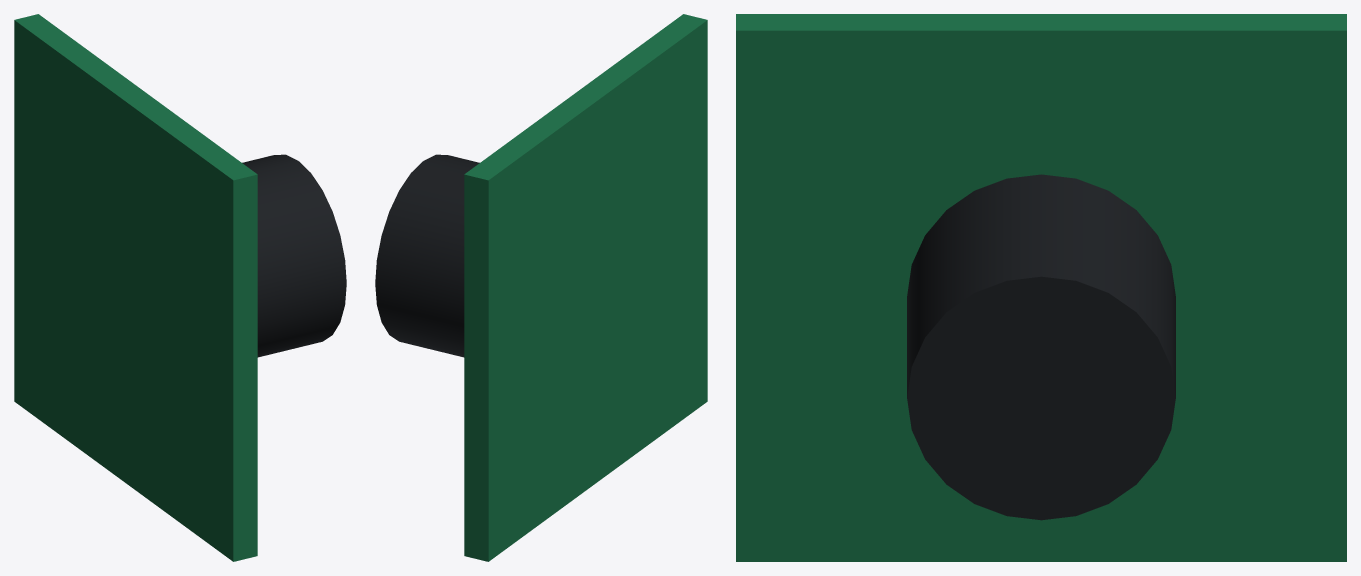
Rendered from camera.glb.
3 renders of one model, left to right at view 1: azimuth 30°, elevation 25°; view 2: azimuth 150°, elevation 25°; view 3: azimuth 270°, elevation 25°, orthographic. The views are drawn at different scales.
Visible parts, largest first — view 1: camera_pcb, camera_lens; view 2: camera_pcb, camera_lens; view 3: camera_pcb, camera_lens.
Part boxes in pixels (x1=…): camera_pcb: x1=14, y1=14, x2=257, y2=561; camera_lens: x1=242, y1=154, x2=346, y2=357; camera_pcb: x1=464, y1=14, x2=707, y2=561; camera_lens: x1=375, y1=154, x2=479, y2=357; camera_pcb: x1=736, y1=14, x2=1346, y2=561; camera_lens: x1=907, y1=174, x2=1175, y2=520.
Bounding box in the file's own units: 0.115 × 0.24 × 0.25.
